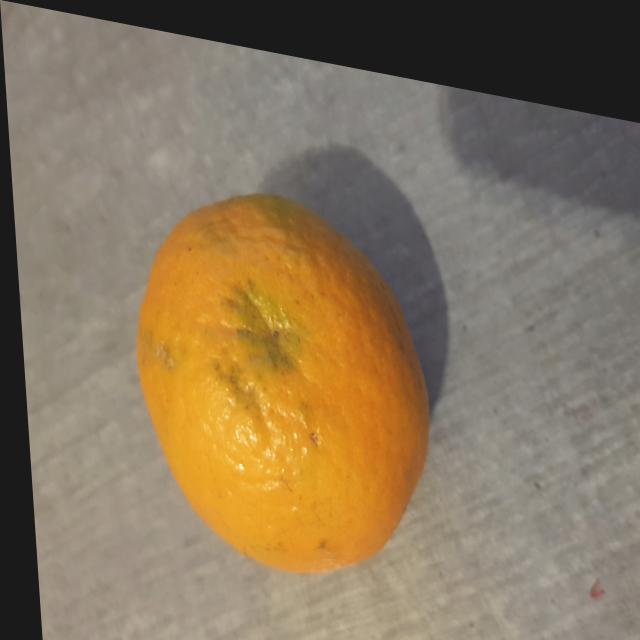Orange: (130, 184, 428, 568)
